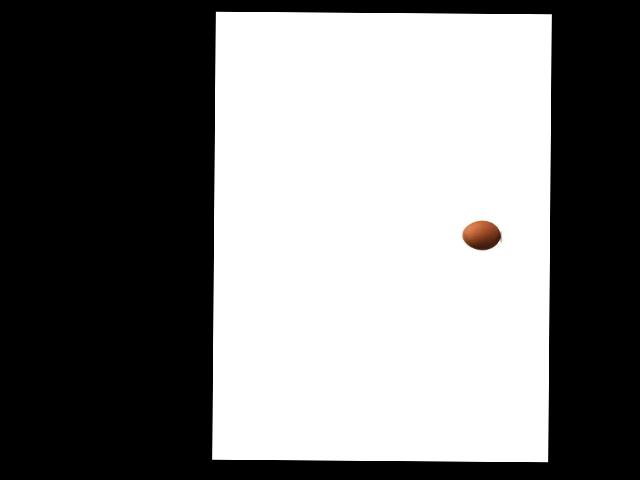egg: (462, 221, 501, 250)
